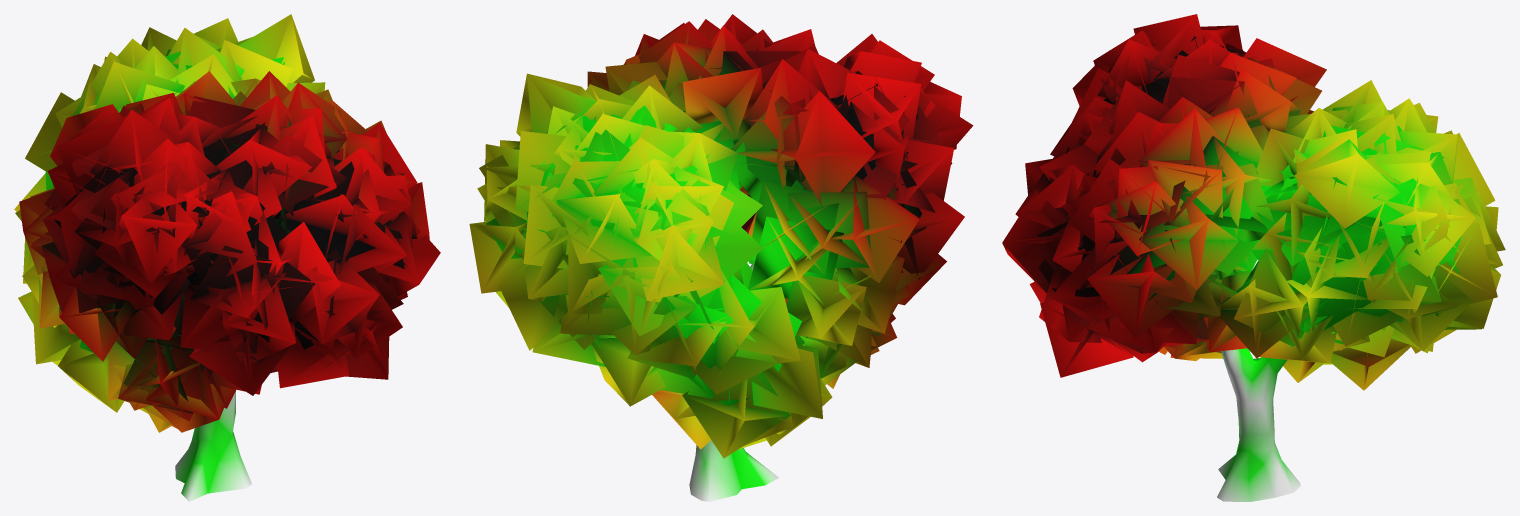
The model's file is mesh_ys_tree08.FBX.
The picture shows the model from 3 angles, left to right: view 1: azimuth 30°, elevation 25°; view 2: azimuth 150°, elevation 25°; view 3: azimuth 270°, elevation 25°; orthographic projection. The views are drawn at different scales.
Visible parts, largest first — view 1: mesh_ys_tree08_02, mesh_ys_tree08_01; view 2: mesh_ys_tree08_02, mesh_ys_tree08_01; view 3: mesh_ys_tree08_02, mesh_ys_tree08_01.
Part boxes in pixels (x1,y1,x2,y2): mesh_ys_tree08_02: (14, 14, 440, 432); mesh_ys_tree08_01: (175, 335, 251, 501); mesh_ys_tree08_02: (469, 14, 973, 458); mesh_ys_tree08_01: (689, 264, 778, 501); mesh_ys_tree08_02: (1002, 14, 1505, 390); mesh_ys_tree08_01: (1217, 329, 1339, 501).
Bounding box in the file's own units: 15.41 × 18.35 × 16.95.
